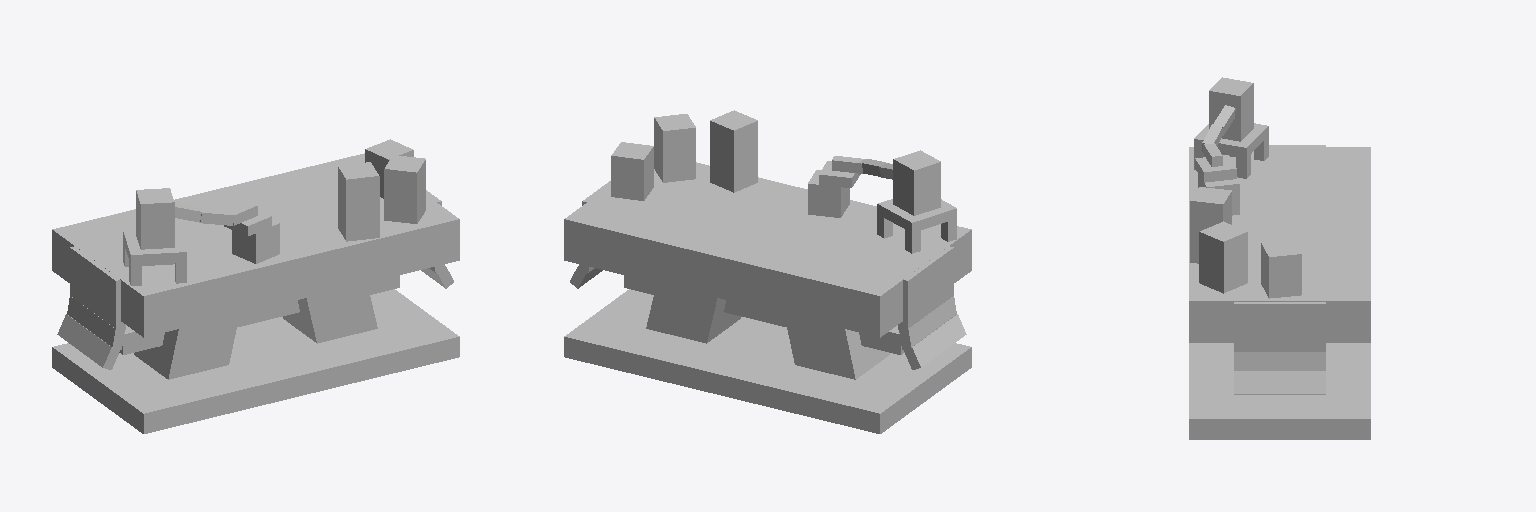
The model's file is modelalchemytable.obj.
3 renders of one model, left to right at view 1: azimuth 30°, elevation 25°; view 2: azimuth 150°, elevation 25°; view 3: azimuth 270°, elevation 25°, orthographic.
Parts seen in each view (by area): view 1: Top, Base, Pillar2, Pillar1, Jar3, Carpet2, Jar2, CrucibleJar, BeamCasing, CarpetLowest2, Decanter1, Recipe (+4 smaller); view 2: Top, Base, Pillar2, Pillar1, Jar3, Carpet2, CrucibleJar, Jar2, Jar1, Recipe, BeamCasing, CarpetLowest2 (+4 smaller); view 3: Top, Base, Carpet1, Jar2, CarpetLowest1, Jar1, CrucibleJar, Jar3, CarpetLow1, Decanter2, CrucibleSide2, Decanter1 (+1 smaller).
Part boxes in pixels (left/top/right/bottom): Top: left=52, top=153, right=459, bottom=337; Base: left=52, top=289, right=459, bottom=433; Pillar2: left=134, top=314, right=239, bottom=379; Pillar1: left=283, top=283, right=377, bottom=343; Jar3: left=338, top=162, right=379, bottom=241; Carpet2: left=70, top=246, right=125, bottom=330; Jar2: left=384, top=155, right=425, bottom=223; CrucibleJar: left=136, top=188, right=174, bottom=265; BeamCasing: left=119, top=275, right=399, bottom=354; CarpetLowest2: left=57, top=314, right=119, bottom=369; Decanter1: left=232, top=220, right=279, bottom=263; Recipe: left=292, top=188, right=337, bottom=219; Top: left=564, top=162, right=971, bottom=337; Base: left=564, top=289, right=971, bottom=433; Pillar2: left=784, top=314, right=889, bottom=379; Pillar1: left=646, top=283, right=740, bottom=343; Jar3: left=710, top=110, right=757, bottom=192; Carpet2: left=898, top=246, right=953, bottom=331; CrucibleJar: left=893, top=150, right=940, bottom=215; Jar2: left=654, top=114, right=695, bottom=182; Jar1: left=611, top=142, right=653, bottom=200; Recipe: left=650, top=186, right=734, bottom=221; BeamCasing: left=624, top=275, right=904, bottom=354; CarpetLowest2: left=904, top=314, right=966, bottom=369; Top: left=1189, top=147, right=1370, bottom=342; Base: left=1189, top=343, right=1370, bottom=439; Carpet1: left=1234, top=302, right=1325, bottom=351; Jar2: left=1199, top=221, right=1247, bottom=293; CarpetLowest1: left=1234, top=371, right=1325, bottom=394; Jar1: left=1261, top=240, right=1301, bottom=298; CrucibleJar: left=1209, top=77, right=1253, bottom=156; Jar3: left=1190, top=187, right=1231, bottom=263; CarpetLow1: left=1234, top=352, right=1325, bottom=370; Decanter2: left=1195, top=155, right=1236, bottom=182; CrucibleSide2: left=1236, top=124, right=1268, bottom=157; Decanter1: left=1198, top=174, right=1239, bottom=215.
Bounding box in the file's own units: 2.23 × 1.31 × 1.